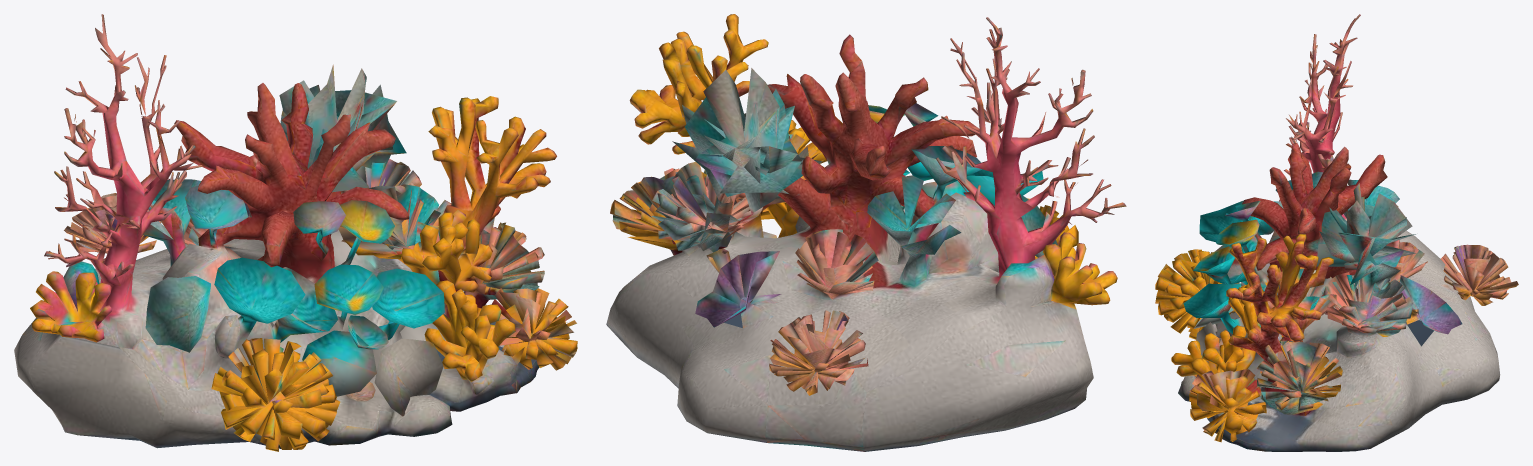
Rendered from reef.glb.
3 renders of one model, left to right at view 1: azimuth 30°, elevation 25°; view 2: azimuth 150°, elevation 25°; view 3: azimuth 270°, elevation 25°, orthographic. The views are drawn at different scales.
Size of the model in its own units: 0.9614 by 0.7168 by 0.793.
Materials: 1 (1 with a texture image).
